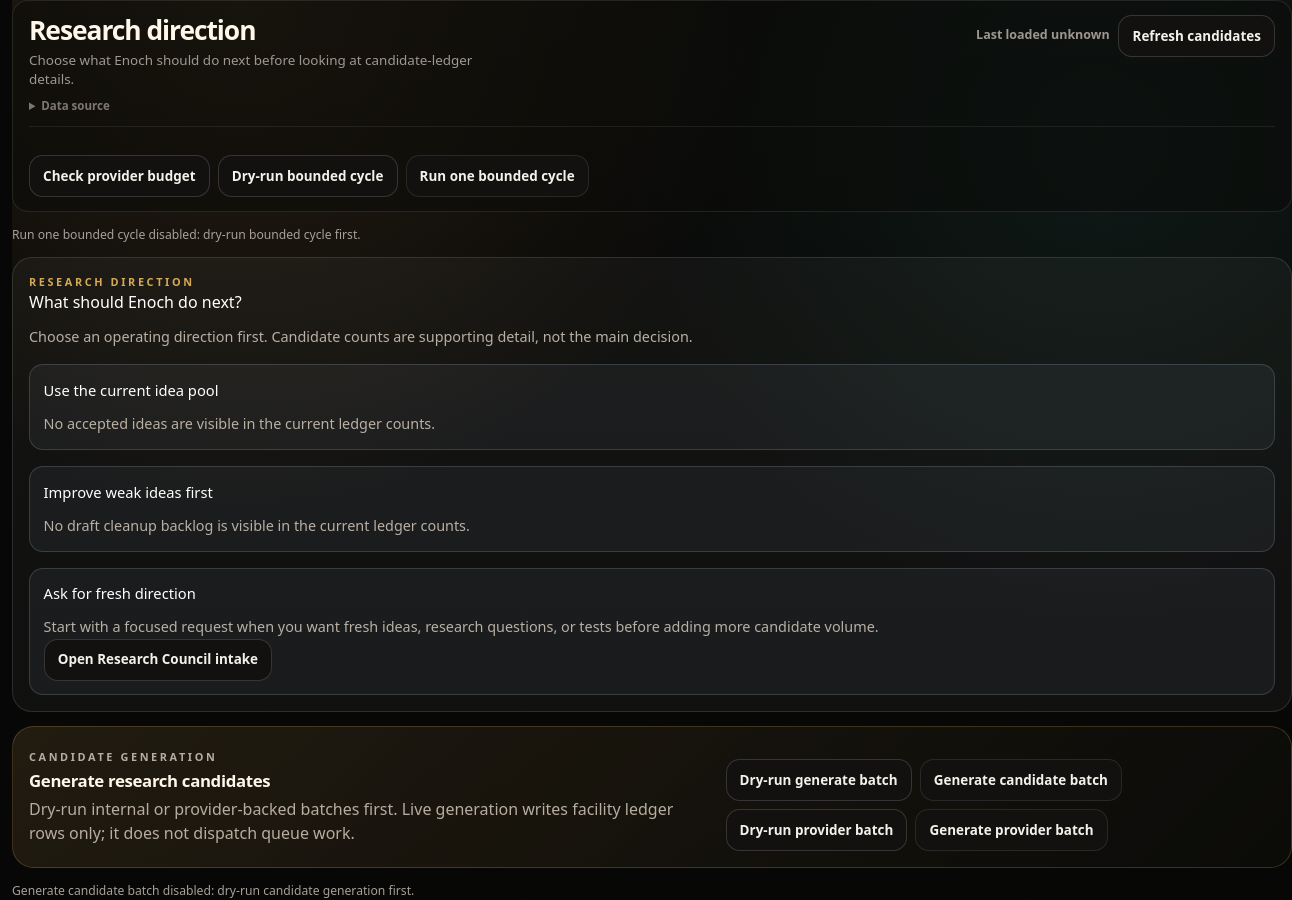
dry-runs internal candidate generation and enables live batch after success
Click the button "Dry-run generate batch": x=819, y=780 [726,759,912,801]
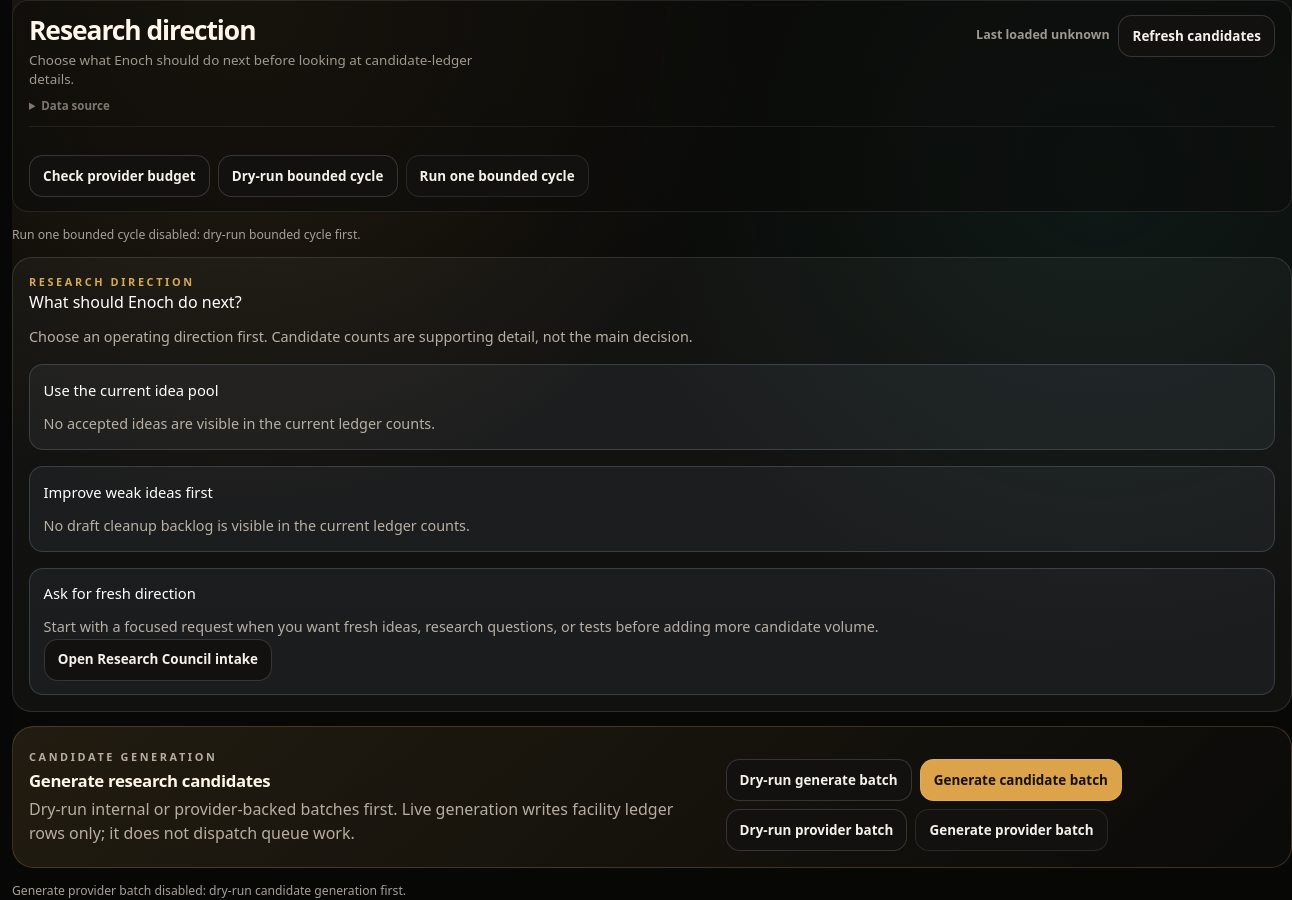
Now the button "Generate candidate batch" is enabled, box [920,759,1122,801]
